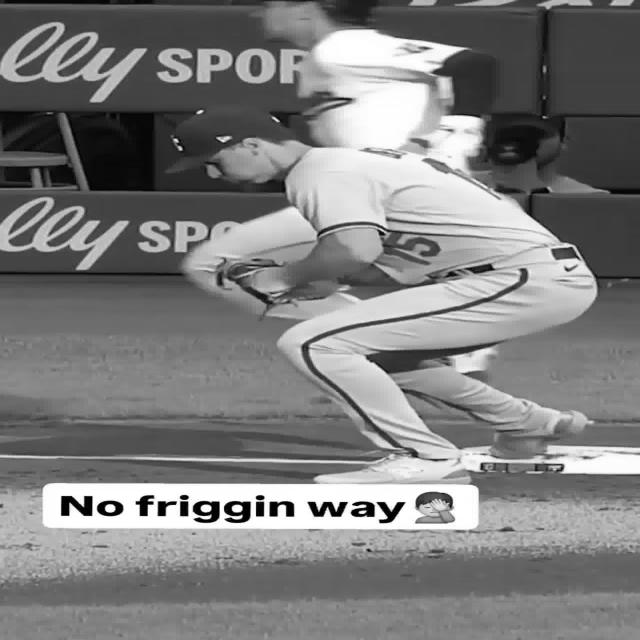base: (462, 445, 640, 475)
baseball_glove: (216, 259, 340, 304)
shoe: (489, 410, 589, 459), (313, 454, 471, 484), (447, 345, 500, 381)
